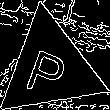P_N: (25, 37, 75, 97)
